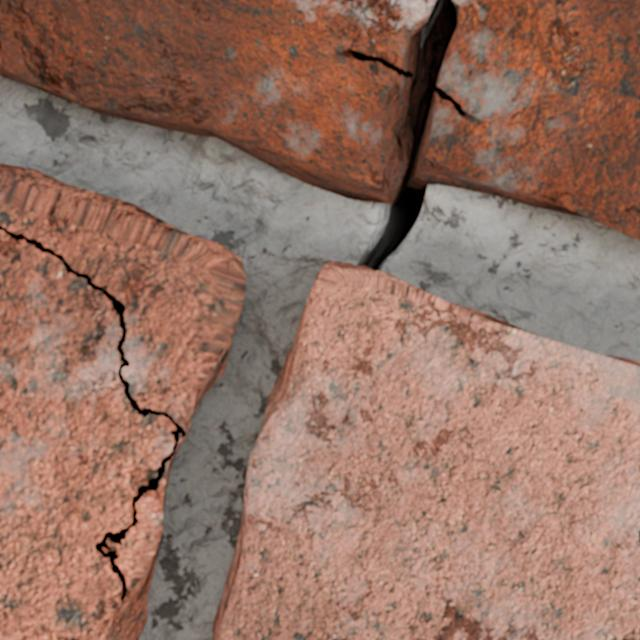broken_brick: (0, 0, 435, 203), (411, 0, 639, 240)
crack: (213, 0, 639, 639), (0, 164, 246, 639), (527, 194, 565, 208), (513, 176, 543, 186)
